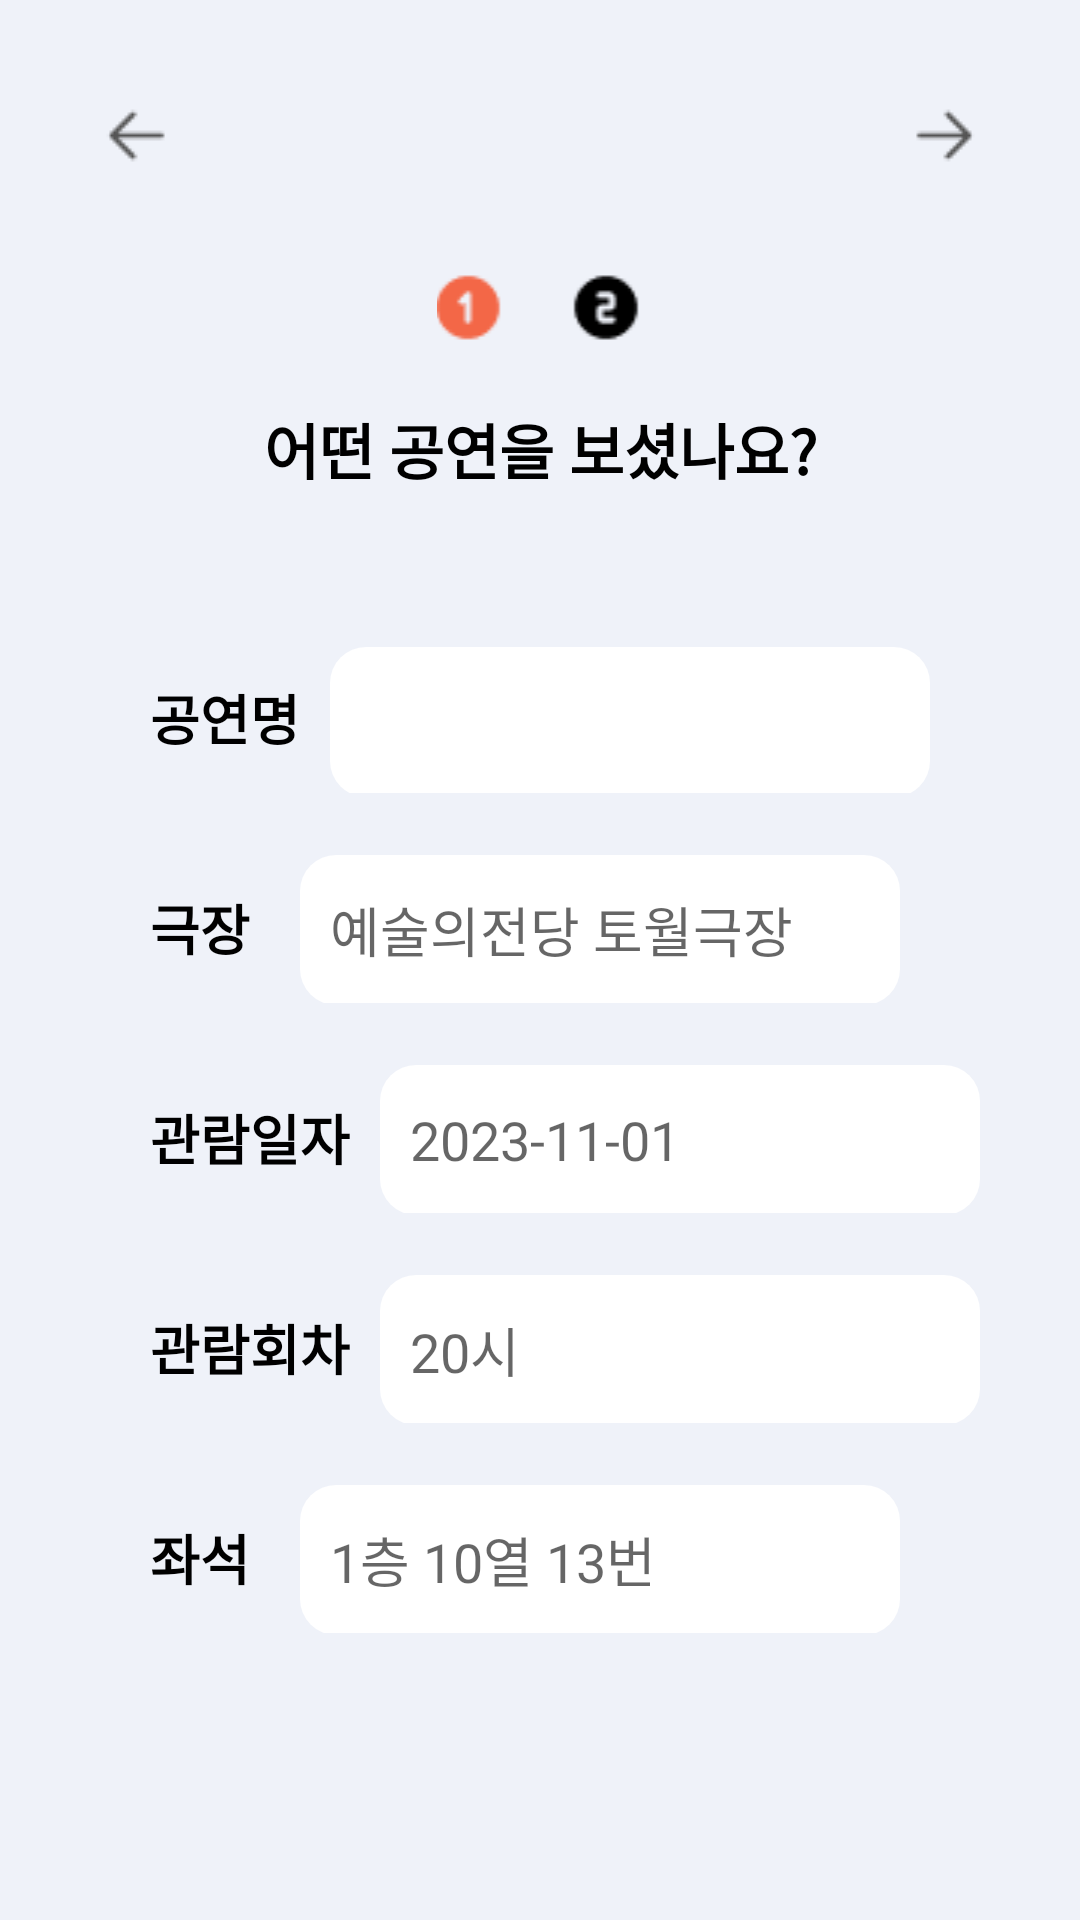

Where to tap for icons on this 1080*1920 app screen, as (x=x, y=y):
다음으로 이동: (x=944, y=135)
이전으로 이동: (x=137, y=136)
